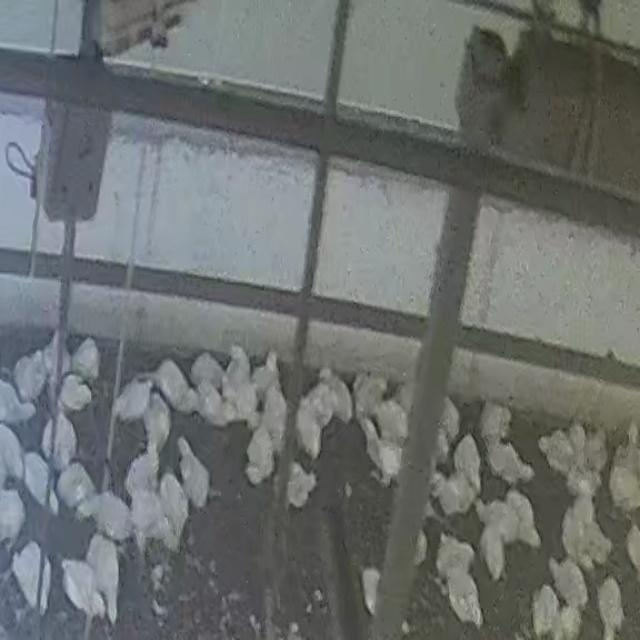chicken: (560, 496, 607, 570), (84, 532, 122, 622), (531, 576, 586, 638), (607, 427, 640, 514), (444, 558, 485, 626), (476, 503, 514, 576), (62, 560, 106, 621), (362, 418, 402, 484), (127, 478, 165, 544), (485, 438, 535, 488), (548, 554, 594, 608), (176, 436, 209, 508), (435, 534, 476, 590), (317, 366, 354, 428), (12, 544, 46, 611), (44, 408, 80, 469), (158, 474, 189, 544), (56, 461, 96, 514), (93, 490, 132, 542), (433, 471, 475, 518), (245, 424, 276, 486), (0, 378, 38, 428), (155, 359, 192, 410), (114, 377, 153, 425), (38, 332, 72, 387), (508, 489, 541, 545), (22, 448, 52, 509), (538, 429, 576, 477), (453, 432, 483, 492), (142, 390, 170, 454), (249, 349, 281, 405), (260, 386, 288, 450), (352, 369, 384, 425), (127, 445, 160, 499), (0, 420, 28, 482), (373, 397, 408, 446), (295, 400, 324, 458), (597, 574, 624, 635), (564, 454, 600, 499), (197, 384, 232, 430), (13, 352, 45, 402), (0, 485, 27, 543), (283, 458, 315, 505), (58, 372, 94, 413), (70, 336, 101, 382), (231, 379, 260, 425), (225, 345, 252, 393), (190, 352, 225, 388), (477, 402, 507, 443), (395, 378, 421, 424), (438, 397, 461, 445), (583, 432, 606, 474), (434, 428, 452, 469), (41, 420, 55, 460), (537, 434, 555, 463)
